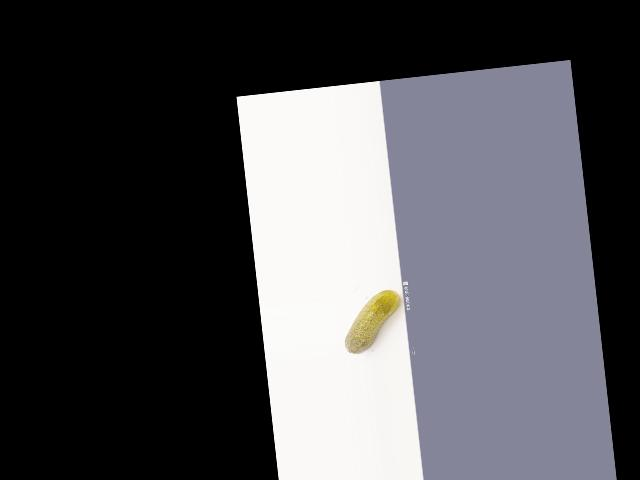cucumber: (340, 288, 405, 355)
